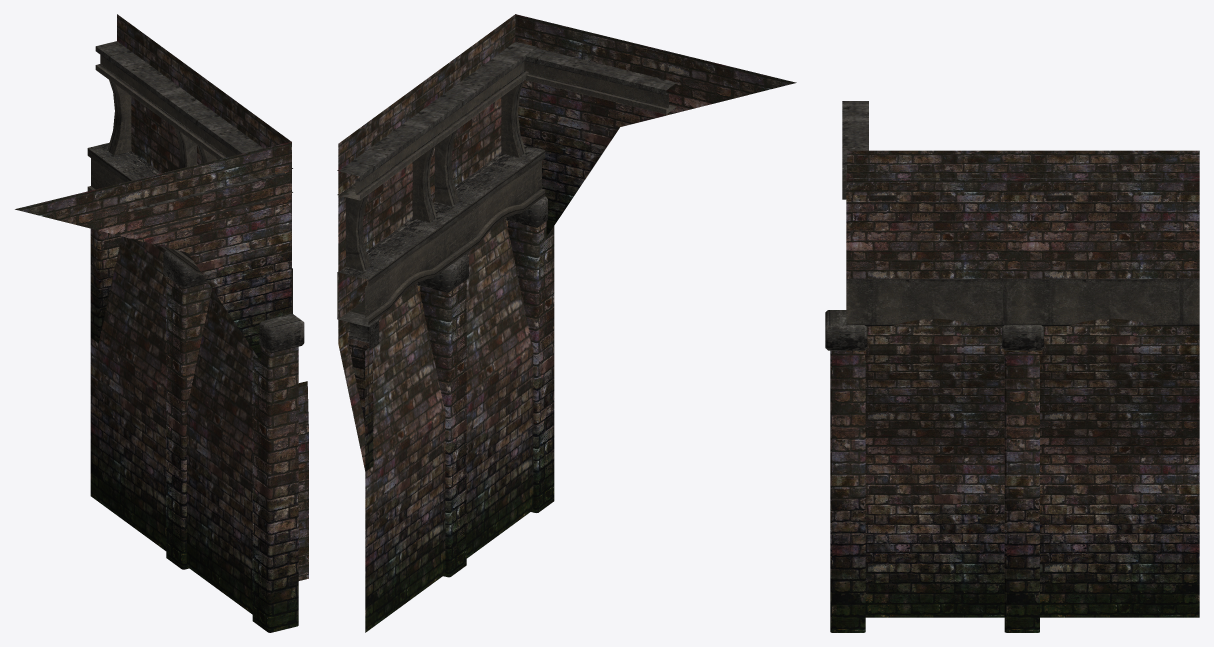
The model's file is sewer_stairs_wall_02.DAE.
3 renders of one model, left to right at view 1: azimuth 30°, elevation 25°; view 2: azimuth 150°, elevation 25°; view 3: azimuth 270°, elevation 25°, orthographic.
Parts seen in each view (by area): view 1: sewer_stairs_wall_high_02, sewer_stairs_wall_high_support_02; view 2: sewer_stairs_wall_high_02, sewer_stairs_wall_high_support_02; view 3: sewer_stairs_wall_high_02, sewer_stairs_wall_high_support_02.
Part boxes in pixels (left/top/right/bottom): sewer_stairs_wall_high_02: left=15, top=14, right=308, bottom=632; sewer_stairs_wall_high_support_02: left=87, top=41, right=304, bottom=353; sewer_stairs_wall_high_02: left=338, top=14, right=796, bottom=632; sewer_stairs_wall_high_support_02: left=337, top=41, right=676, bottom=351; sewer_stairs_wall_high_02: left=830, top=150, right=1199, bottom=632; sewer_stairs_wall_high_support_02: left=825, top=101, right=1199, bottom=350.
Bounding box in the file's own units: 3.88 × 4.24 × 6.03.
